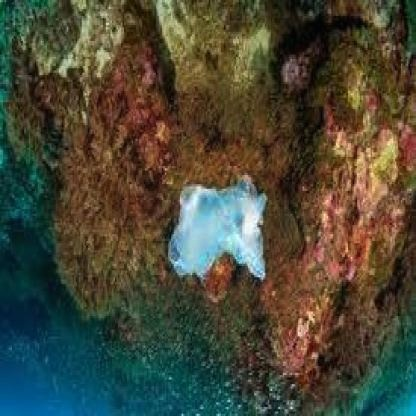pbag: (166, 173, 268, 284)
